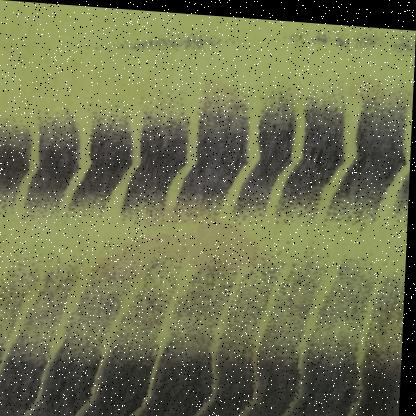spot: (81, 180, 276, 290), (325, 67, 414, 111), (195, 73, 240, 110)
